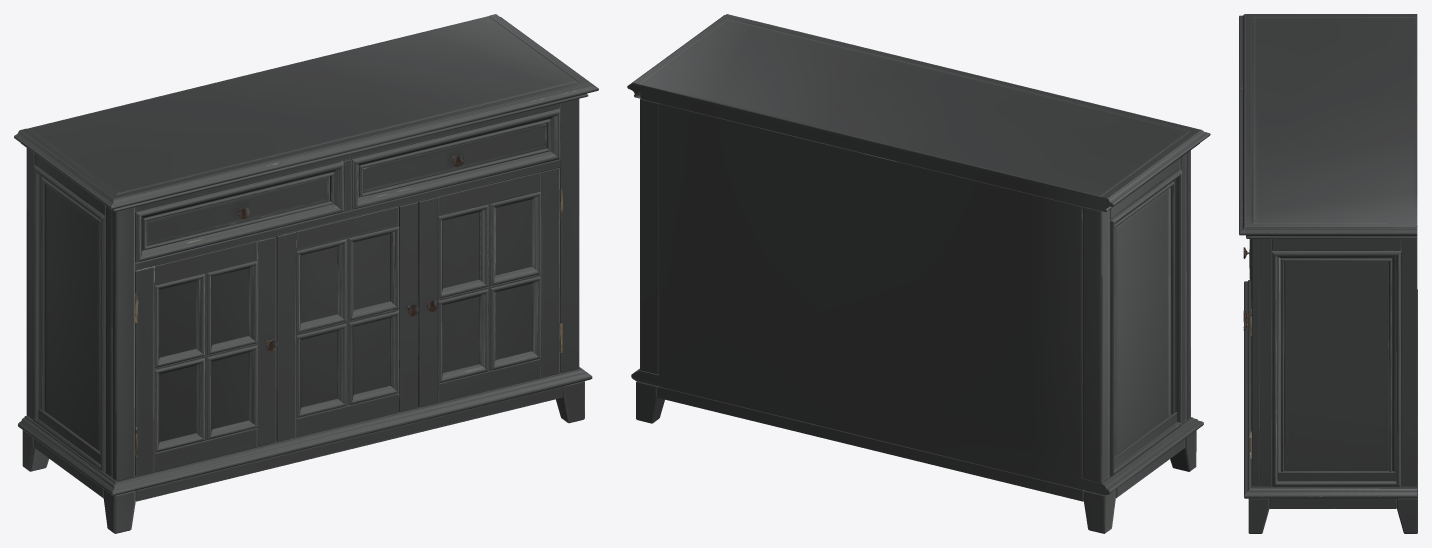
File: cabinet_hutch_buffet_47413000-b853-5f46-a937-4d245b31e3c8.glb
The picture shows the model from 3 angles, left to right: view 1: azimuth 30°, elevation 25°; view 2: azimuth 150°, elevation 25°; view 3: azimuth 270°, elevation 25°; orthographic projection. The views are drawn at different scales.
Visible parts, largest first — view 1: raw_model.obj; view 2: raw_model.obj; view 3: raw_model.obj.
Boxes of the visible parts, box(x1,y1,x2,y2) form: raw_model.obj: box(14, 14, 598, 533); raw_model.obj: box(627, 14, 1210, 533); raw_model.obj: box(1239, 14, 1417, 533).
Size of the model in its own units: 1.3 by 0.86 by 0.451.
1 material, 1 textured.
